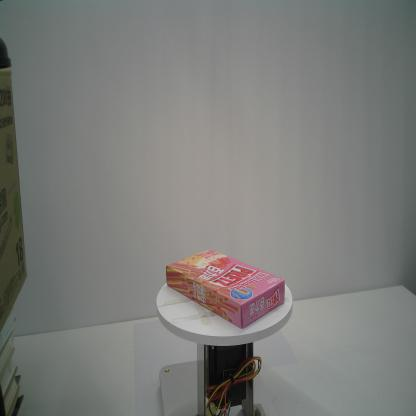Dessert: (166, 249, 286, 329)
